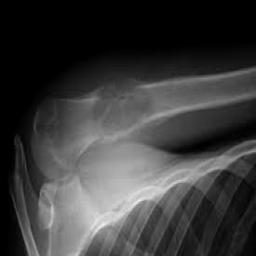cancer: (91, 80, 152, 140)
